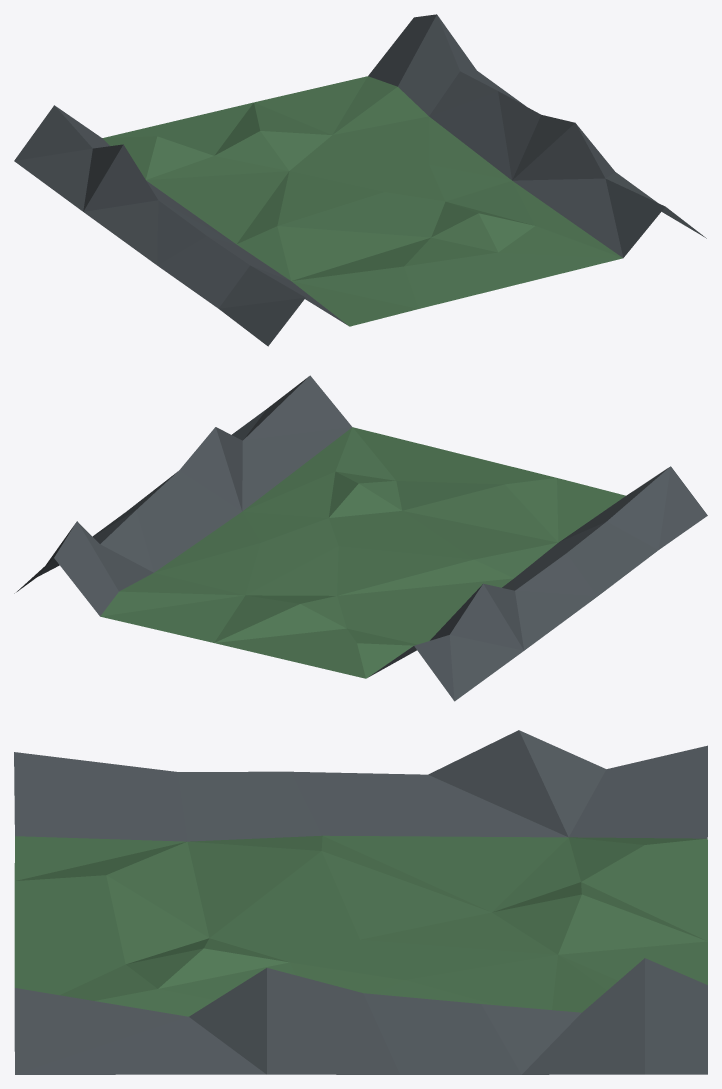
The model's file is hilltest2.fbx.
3 views of the same model, one above another, from view 1: azimuth 30°, elevation 25°; view 2: azimuth 150°, elevation 25°; view 3: azimuth 270°, elevation 25° (orthographic). The views are drawn at different scales.
Visible parts, largest first — view 1: Plane; view 2: Plane; view 3: Plane.
Boxes of the visible parts, <box> form: Plane: <box>14,14,706,346</box>; Plane: <box>14,375,707,701</box>; Plane: <box>14,730,707,1074</box>.
Size of the model in its own units: 1002 by 147 by 1001.
